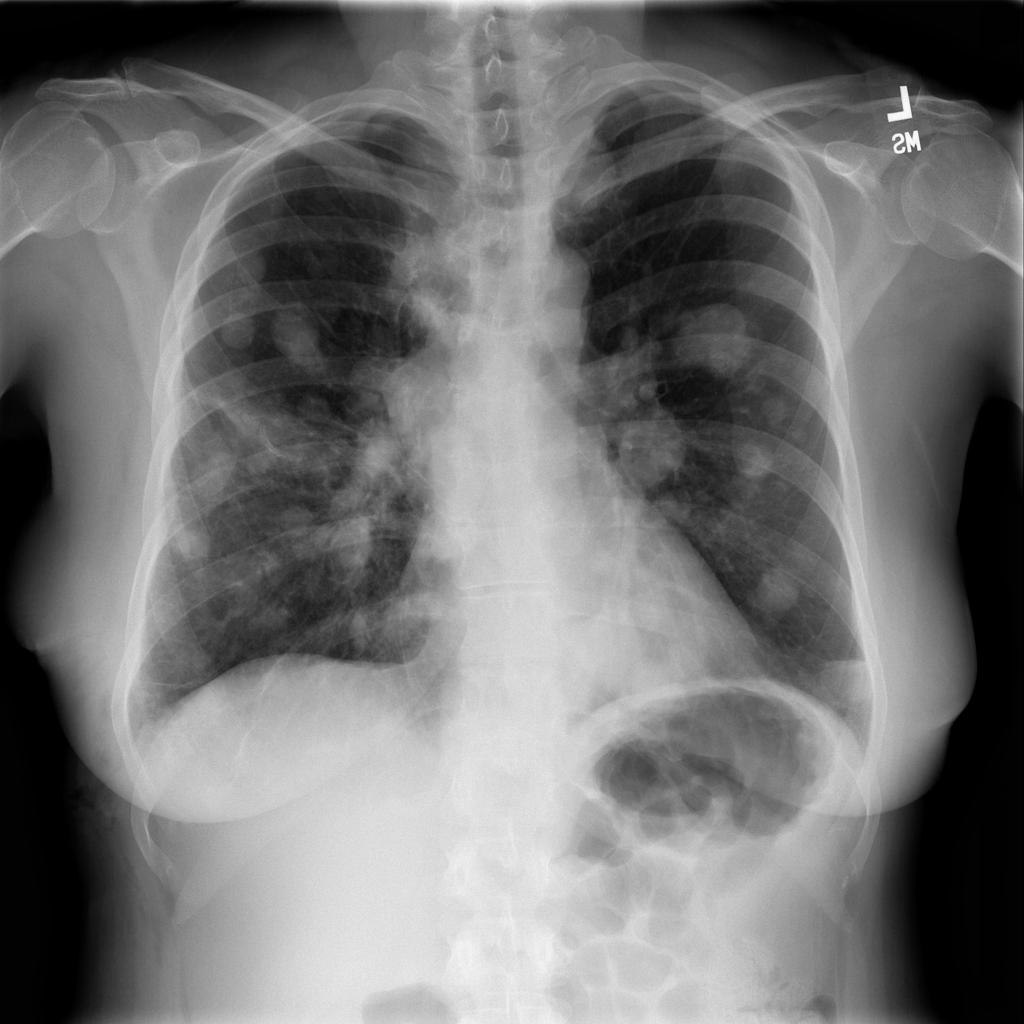nodule: (667, 283, 771, 393), (608, 407, 690, 485), (266, 294, 339, 375), (809, 647, 886, 720), (738, 553, 814, 626), (315, 505, 383, 583), (734, 390, 804, 463), (717, 431, 790, 500), (151, 505, 222, 575), (211, 304, 264, 358), (272, 497, 327, 549), (286, 381, 346, 427), (222, 238, 275, 290), (649, 480, 705, 528)
